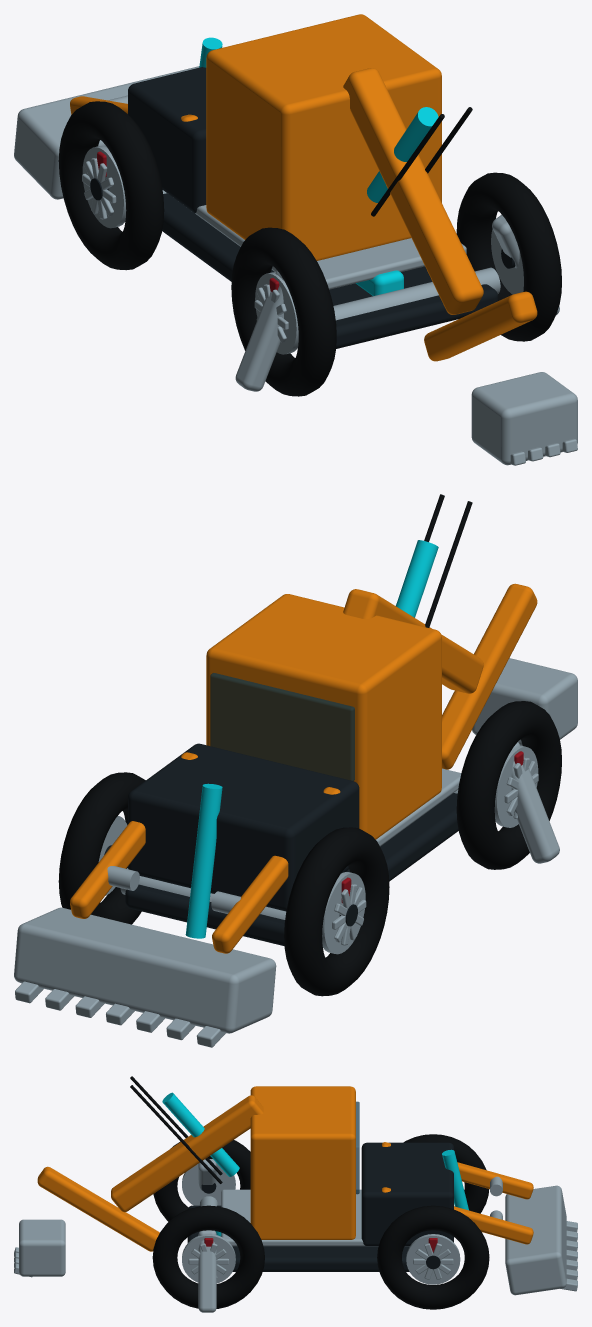
Rendered from backhoe_hx.glb.
3 views of the same model, one above another, from view 1: azimuth 30°, elevation 25°; view 2: azimuth 150°, elevation 25°; view 3: azimuth 270°, elevation 25° (orthographic). The views are drawn at different scales.
Visible parts, largest first — view 1: meet_mesh__operator_cab__safety_cell, meet_mesh__wheel_left_-1.75__tire, meet_mesh__rear_boom__primary_boom, meet_mesh__wheel_left_1.7__tire, meet_mesh__wheel_right_1.7__tire, meet_mesh__engine_bay__service_hood, meet_mesh__chassis__lower_frame, meet_mesh__rear_bucket__digging_bucket, meet_mesh__front_bucket__bucket_shell, meet_mesh__rear_dipper__dipper_arm, meet_mesh__floor__structural_floor, meet_mesh__stabilizers__leg_-1.48 (+8 smaller); view 2: meet_mesh__operator_cab__safety_cell, meet_mesh__engine_bay__service_hood, meet_mesh__front_bucket__bucket_shell, meet_mesh__wheel_left_-1.75__tire, meet_mesh__cab_glass__panoramic, meet_mesh__wheel_left_1.7__tire, meet_mesh__chassis__lower_frame, meet_mesh__wheel_right_-1.75__tire, meet_mesh__rear_dipper__dipper_arm, meet_mesh__rear_bucket__digging_bucket, meet_mesh__rear_boom__primary_boom, meet_mesh__hydraulics__loader_cylinder (+9 smaller); view 3: meet_mesh__operator_cab__safety_cell, meet_mesh__engine_bay__service_hood, meet_mesh__wheel_right_-1.75__tire, meet_mesh__wheel_right_1.7__tire, meet_mesh__front_bucket__bucket_shell, meet_mesh__rear_boom__primary_boom, meet_mesh__chassis__lower_frame, meet_mesh__rear_dipper__dipper_arm, meet_mesh__rear_bucket__digging_bucket, meet_mesh__floor__structural_floor, meet_mesh__wheel_left_1.7__tire, meet_mesh__wheel_left_-1.75__tire (+12 smaller).
Boxes of the visible parts, left/top/right/bottom form: meet_mesh__operator_cab__safety_cell: left=206, top=14, right=441, bottom=260; meet_mesh__wheel_left_-1.75__tire: left=58, top=101, right=164, bottom=270; meet_mesh__rear_boom__primary_boom: left=343, top=68, right=483, bottom=314; meet_mesh__wheel_left_1.7__tire: left=231, top=227, right=336, bottom=396; meet_mesh__wheel_right_1.7__tire: left=456, top=172, right=561, bottom=341; meet_mesh__engine_bay__service_hood: left=128, top=67, right=206, bottom=213; meet_mesh__chassis__lower_frame: left=162, top=193, right=497, bottom=348; meet_mesh__rear_bucket__digging_bucket: left=471, top=372, right=577, bottom=465; meet_mesh__front_bucket__bucket_shell: left=14, top=66, right=199, bottom=199; meet_mesh__rear_dipper__dipper_arm: left=424, top=291, right=537, bottom=361; meet_mesh__floor__structural_floor: left=195, top=205, right=466, bottom=289; meet_mesh__stabilizers__leg_-1.48: left=235, top=270, right=284, bottom=391; meet_mesh__operator_cab__safety_cell: left=206, top=594, right=441, bottom=839; meet_mesh__engine_bay__service_hood: left=128, top=743, right=359, bottom=911; meet_mesh__front_bucket__bucket_shell: left=14, top=907, right=276, bottom=1033; meet_mesh__wheel_left_-1.75__tire: left=284, top=827, right=389, bottom=996; meet_mesh__cab_glass__panoramic: left=210, top=673, right=354, bottom=780; meet_mesh__wheel_left_1.7__tire: left=456, top=701, right=561, bottom=869; meet_mesh__chassis__lower_frame: left=125, top=793, right=458, bottom=946; meet_mesh__wheel_right_-1.75__tire: left=58, top=772, right=145, bottom=924; meet_mesh__rear_dipper__dipper_arm: left=442, top=583, right=537, bottom=769; meet_mesh__rear_bucket__digging_bucket: left=472, top=658, right=577, bottom=745; meet_mesh__rear_boom__primary_boom: left=343, top=589, right=483, bottom=693; meet_mesh__hydraulics__loader_cylinder: left=185, top=783, right=222, bottom=938; meet_mesh__operator_cab__safety_cell: left=250, top=1086, right=355, bottom=1239; meet_mesh__engine_bay__service_hood: left=361, top=1142, right=453, bottom=1245; meet_mesh__wheel_right_-1.75__tire: left=377, top=1205, right=489, bottom=1309; meet_mesh__wheel_right_1.7__tire: left=152, top=1205, right=264, bottom=1308; meet_mesh__front_bucket__bucket_shell: left=505, top=1185, right=566, bottom=1295; meet_mesh__rear_boom__primary_boom: left=111, top=1095, right=263, bottom=1212; meet_mesh__chassis__lower_frame: left=187, top=1205, right=409, bottom=1271; meet_mesh__rear_dipper__dipper_arm: left=37, top=1166, right=159, bottom=1251; meet_mesh__rear_bucket__digging_bucket: left=19, top=1219, right=65, bottom=1276; meet_mesh__floor__structural_floor: left=221, top=1189, right=409, bottom=1246; meet_mesh__wheel_left_1.7__tire: left=153, top=1140, right=250, bottom=1221; meet_mesh__wheel_left_-1.75__tire: left=403, top=1134, right=489, bottom=1213.
Size of the model in its own units: 3.65 by 3.26 by 8.67.
